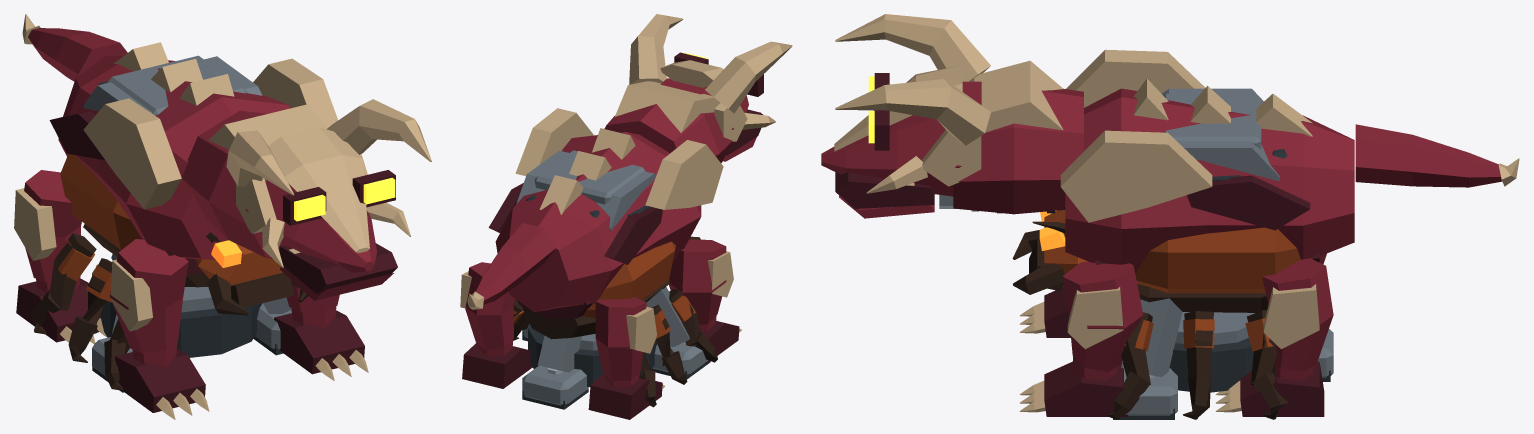
The model's file is actors-chapter1.glb.
3 views of the same model, side by side, from view 1: azimuth 30°, elevation 25°; view 2: azimuth 150°, elevation 25°; view 3: azimuth 270°, elevation 25° (orthographic). The views are drawn at different scales.
Visible parts, largest first — view 1: rusher_head_bone, rusher_body_bone, rusher_body_shell, rusher_leg1_hip_shell, rusher_neck_shell, rusher_head_shell, rusher_head_dark, turret_body_dark, turret_turret_shell, bomber_body_shell, rusher_leg1_paw_dark, rusher_leg0_paw_dark (+25 smaller); view 2: rusher_body_shell, rusher_body_bone, rusher_head_bone, turret_body_shell, turret_turret_shell, rusher_neck_shell, rusher_tail_shell, rusher_leg3_hip_shell, rusher_leg1_hip_shell, rusher_body_dark, rusher_neck_bone, bomber_body_shell (+16 smaller); view 3: rusher_body_shell, rusher_body_bone, rusher_head_bone, rusher_neck_shell, bomber_body_shell, rusher_tail_shell, rusher_head_shell, turret_body_shell, turret_turret_shell, rusher_leg0_hip_shell, rusher_neck_bone, rusher_body_dark (+18 smaller).
Boxes of the visible parts, x1,y1,x2,y2 form: rusher_head_bone: [226, 99, 431, 267]; rusher_body_bone: [83, 42, 338, 209]; rusher_body_shell: [58, 55, 290, 259]; rusher_leg1_hip_shell: [110, 239, 188, 352]; rusher_neck_shell: [181, 110, 279, 258]; rusher_head_shell: [245, 180, 393, 300]; rusher_head_dark: [279, 170, 397, 294]; turret_body_dark: [92, 301, 283, 392]; turret_turret_shell: [84, 55, 262, 115]; bomber_body_shell: [60, 154, 142, 249]; rusher_leg1_paw_dark: [115, 349, 205, 412]; rusher_leg0_paw_dark: [274, 310, 364, 374]; rusher_body_shell: [495, 132, 701, 311]; rusher_body_bone: [515, 108, 723, 214]; rusher_head_bone: [629, 14, 792, 141]; turret_body_shell: [522, 287, 707, 405]; turret_turret_shell: [516, 150, 656, 230]; rusher_neck_shell: [604, 104, 732, 163]; rusher_tail_shell: [475, 223, 555, 304]; rusher_leg3_hip_shell: [595, 297, 646, 381]; rusher_leg1_hip_shell: [668, 239, 726, 324]; rusher_body_dark: [488, 183, 662, 318]; rusher_neck_bone: [615, 81, 720, 132]; bomber_body_shell: [582, 241, 675, 318]; rusher_body_shell: [1065, 88, 1354, 273]; rusher_body_bone: [1060, 49, 1312, 222]; rusher_head_bone: [834, 14, 990, 193]; rusher_neck_shell: [953, 89, 1083, 214]; bomber_body_shell: [1135, 227, 1300, 293]; rusher_tail_shell: [1355, 124, 1502, 187]; rusher_head_shell: [821, 81, 981, 218]; turret_body_shell: [1121, 293, 1333, 415]; turret_turret_shell: [1161, 88, 1279, 181]; rusher_leg0_hip_shell: [1062, 261, 1143, 371]; rusher_neck_bone: [970, 60, 1063, 132]; rusher_body_dark: [1095, 175, 1319, 264].
Size of the model in its own units: 1.15 by 1.5 by 2.99.
